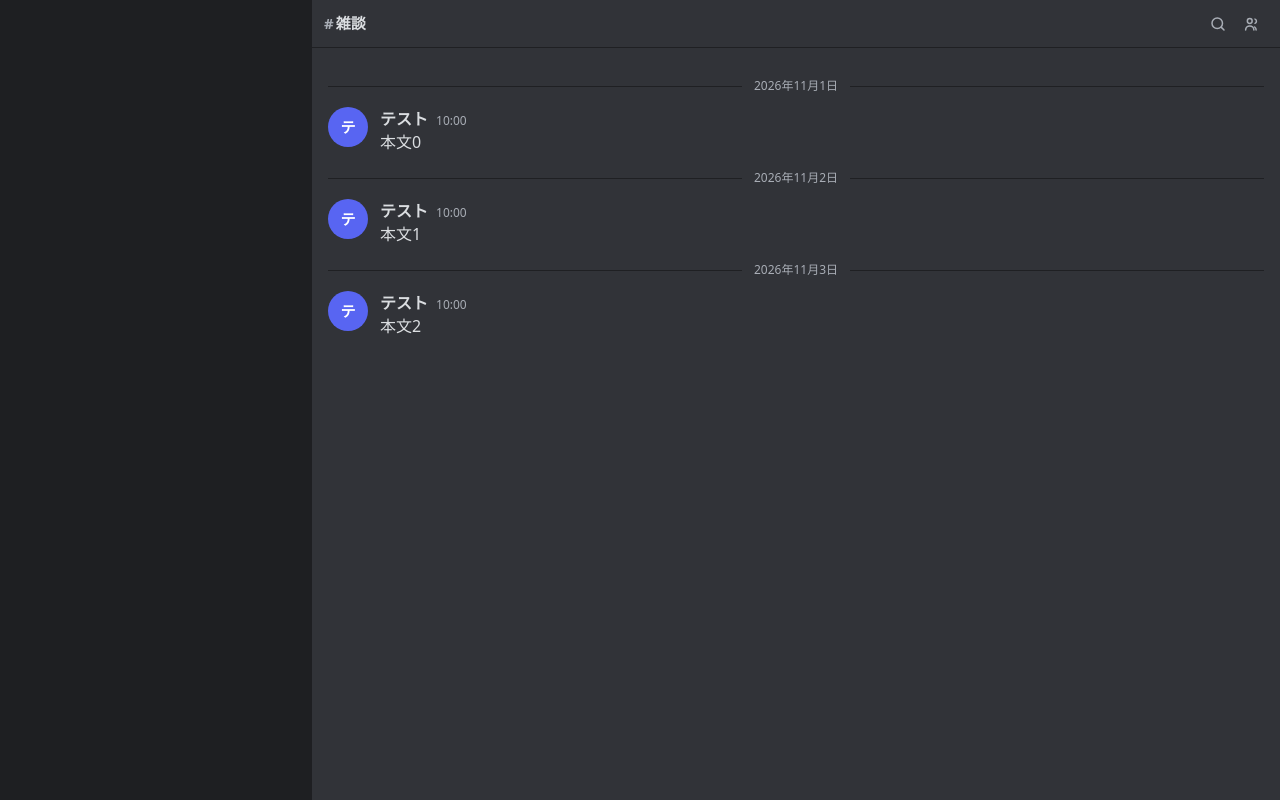
メンバー一覧の絞り込み（#163） › 一致するメンバーがいなければ「見つかりません」を出す
The width and height of the screenshot is (1280, 800).
Click the button named "メンバー" at coordinates (1252, 24), box [1236,8,1268,40]
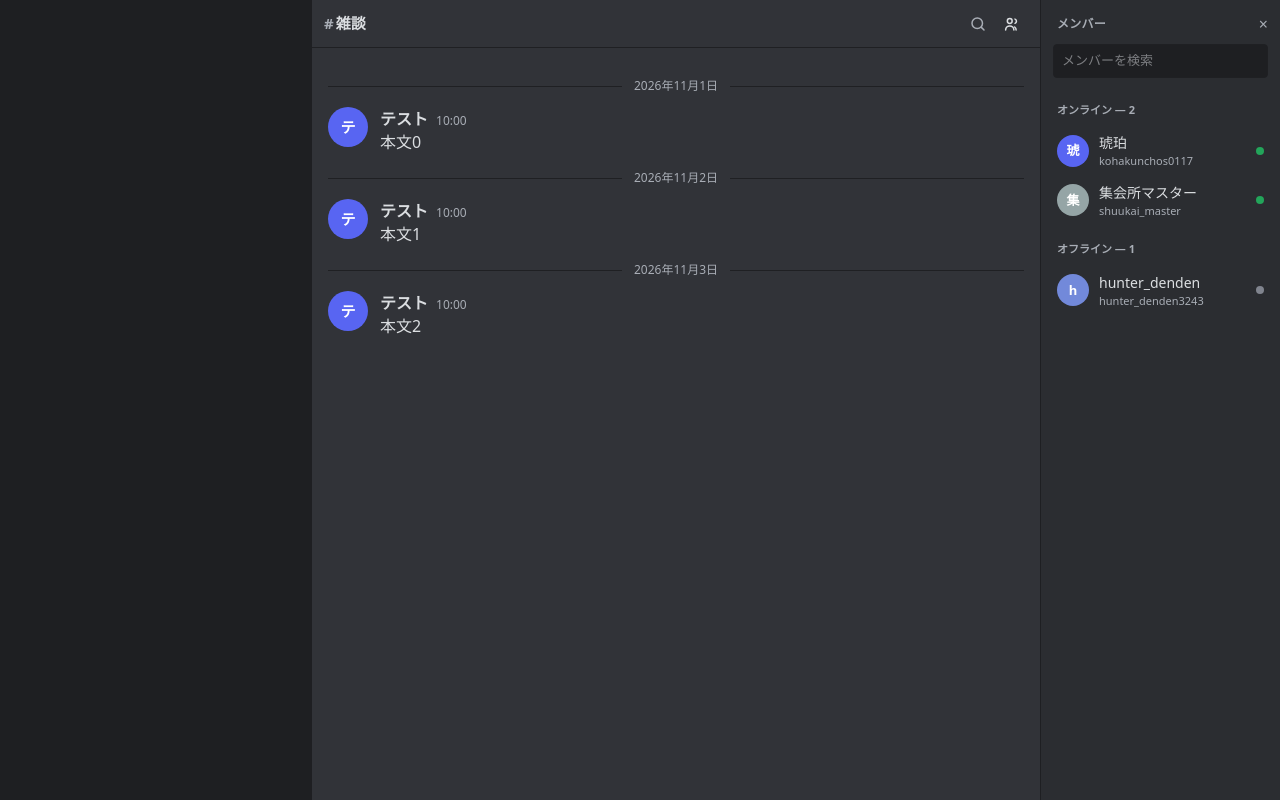
Type "そんな人はいない" into the search field with id "members-filter-input" at coordinates (1160, 61), box [1053,44,1268,78]
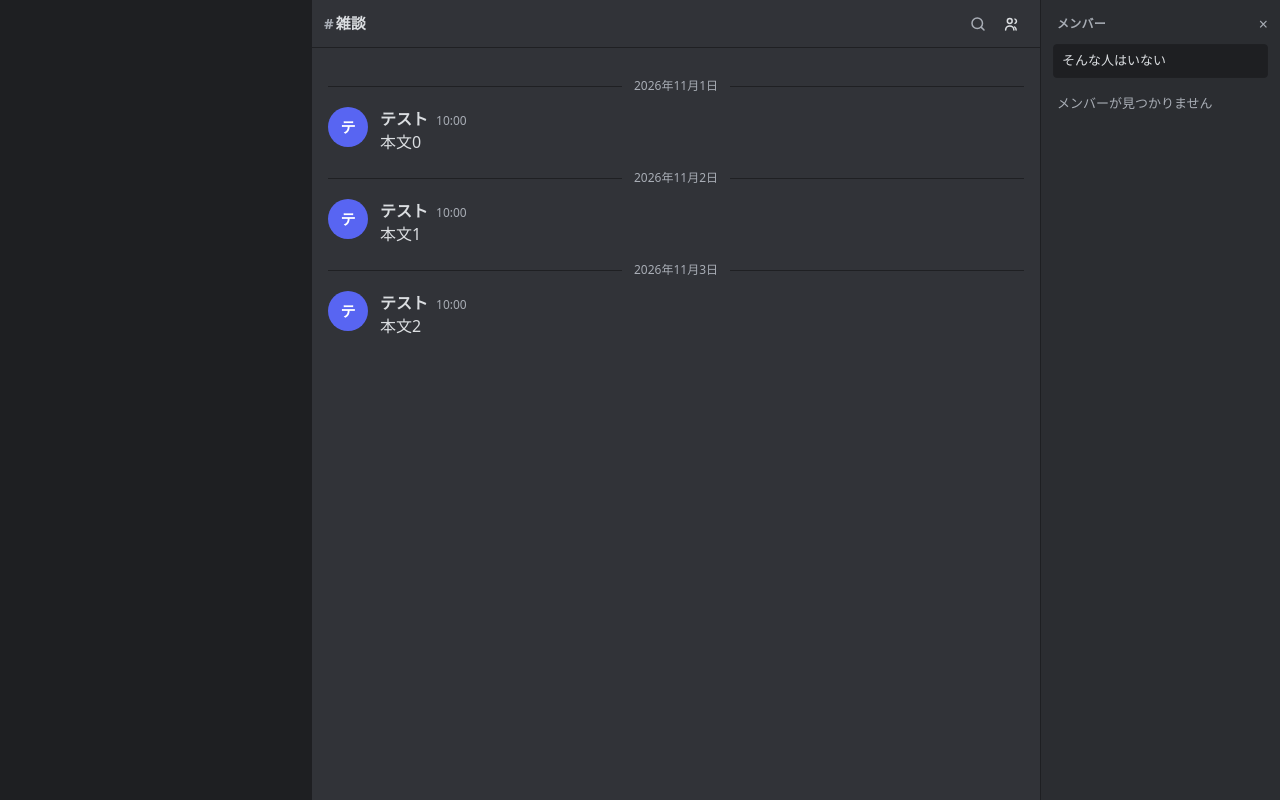
Result: the text with class "members-panel-empty" reads "メンバーが見つかりません" at [1057,94,1213,112]
